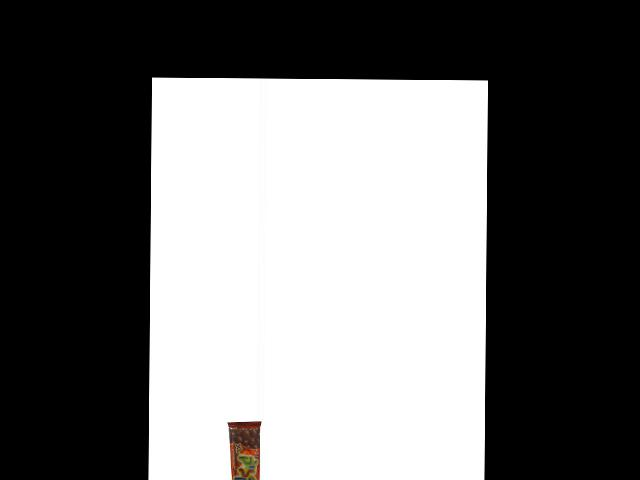chocolate: (228, 421, 261, 480)
